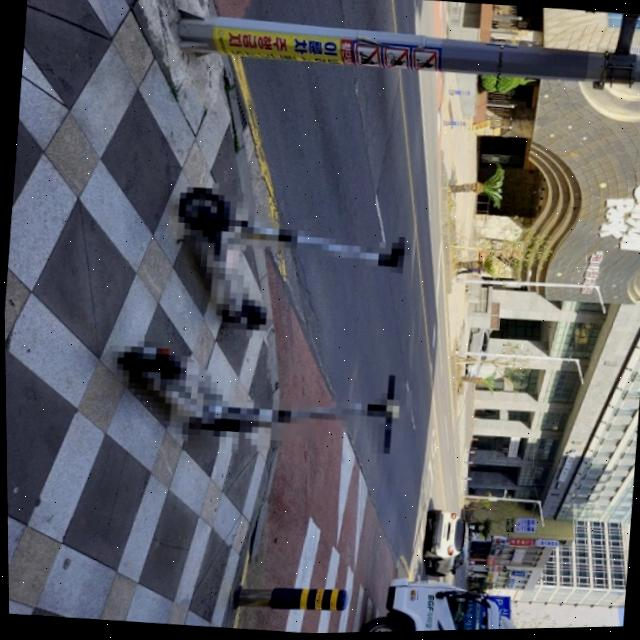crosswalk: (257, 501, 380, 634)
kickboard_no: (107, 363, 402, 451), (171, 207, 416, 287)
